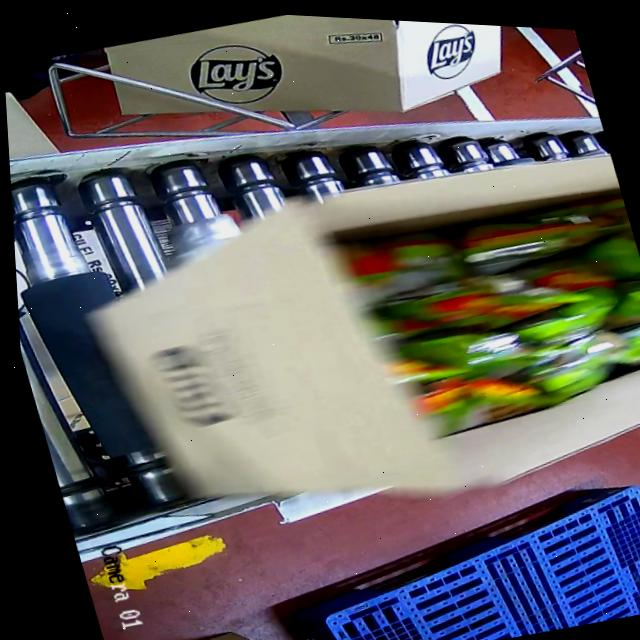YOGURT_HERB: (360, 180, 640, 427)
